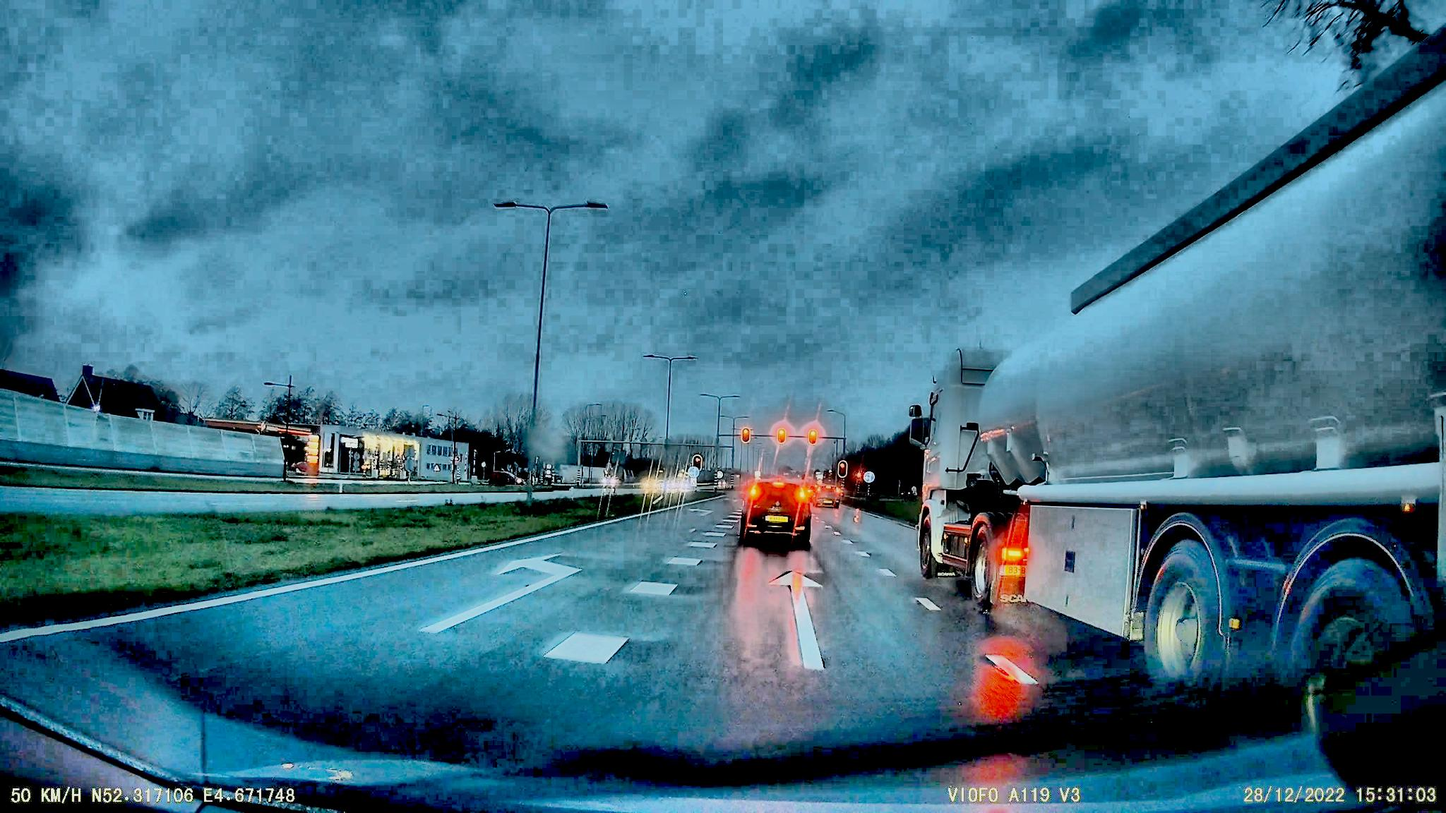Roads: (0, 501, 1151, 789)
